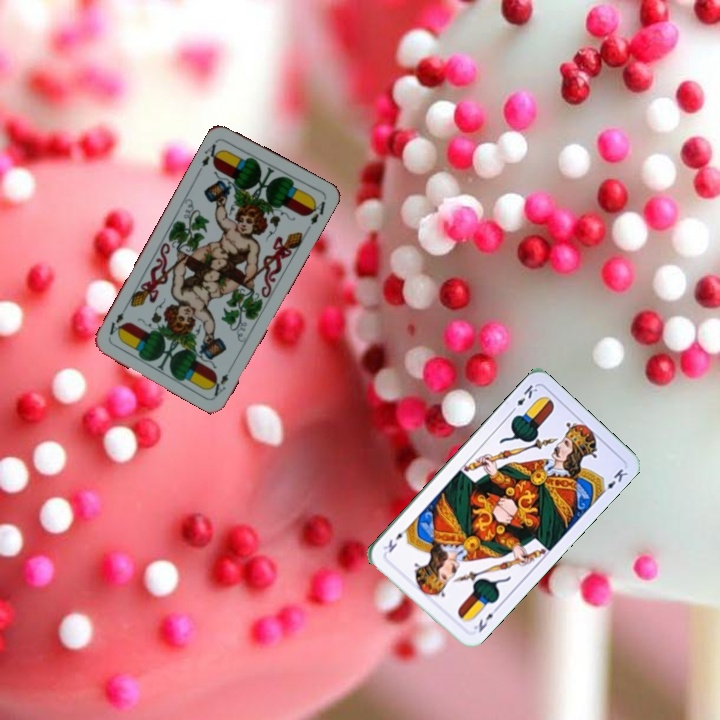EA: (208, 361, 235, 399), (194, 140, 224, 174)
EK: (507, 381, 540, 415), (470, 603, 500, 635)
